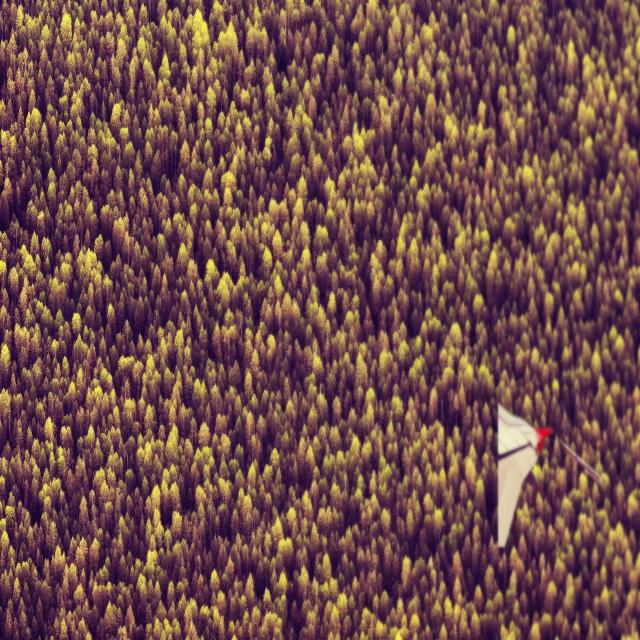airplane: (495, 401, 603, 549)
